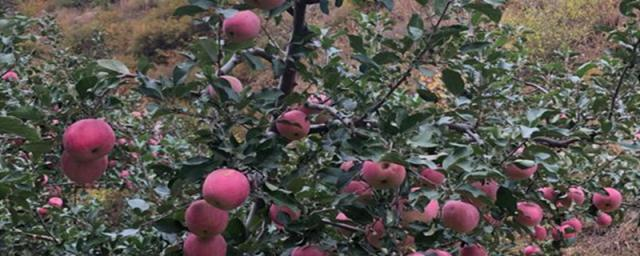apple: (62, 117, 116, 159), (201, 168, 251, 210), (183, 200, 229, 236), (58, 154, 110, 182), (360, 159, 407, 187), (441, 200, 479, 233), (223, 11, 261, 44), (275, 109, 310, 141), (592, 185, 622, 215)
